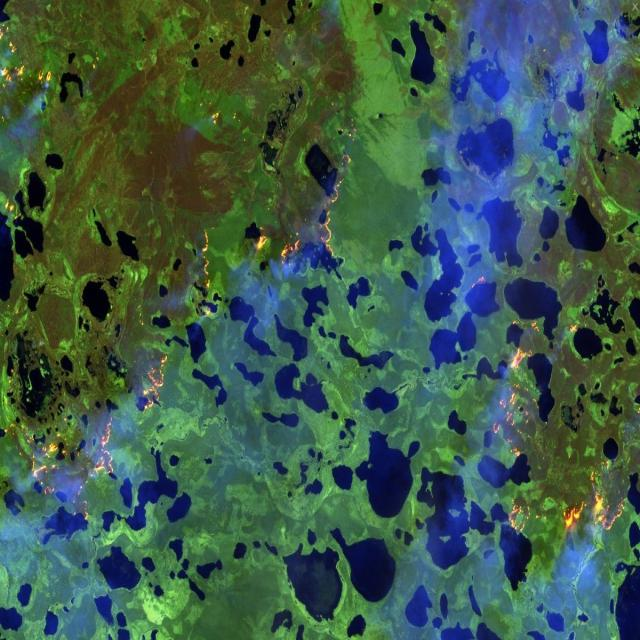fire: (11, 410, 121, 526), (492, 314, 556, 458), (561, 458, 629, 568), (250, 209, 342, 285), (185, 219, 227, 330), (132, 347, 180, 425), (501, 488, 535, 576), (463, 260, 491, 300)
